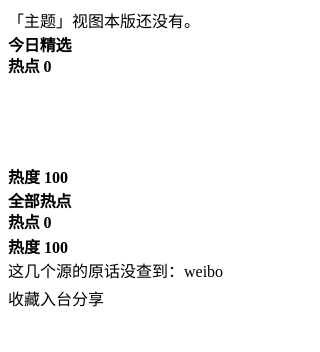
Test case: PLAZA-04 卡片三动作 › 带 code 的 404 是真的「这一条不存在」，走 failed 而不是「还没接」
Step 1. Click the button with test id "action-workbench" → (56, 298), box [40,282,72,314]
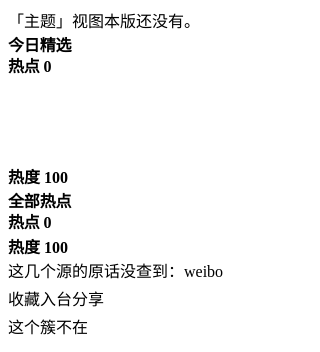
Check: the message with test id "action-outcome" reads "这个簇不在", box [8,319,88,336]
